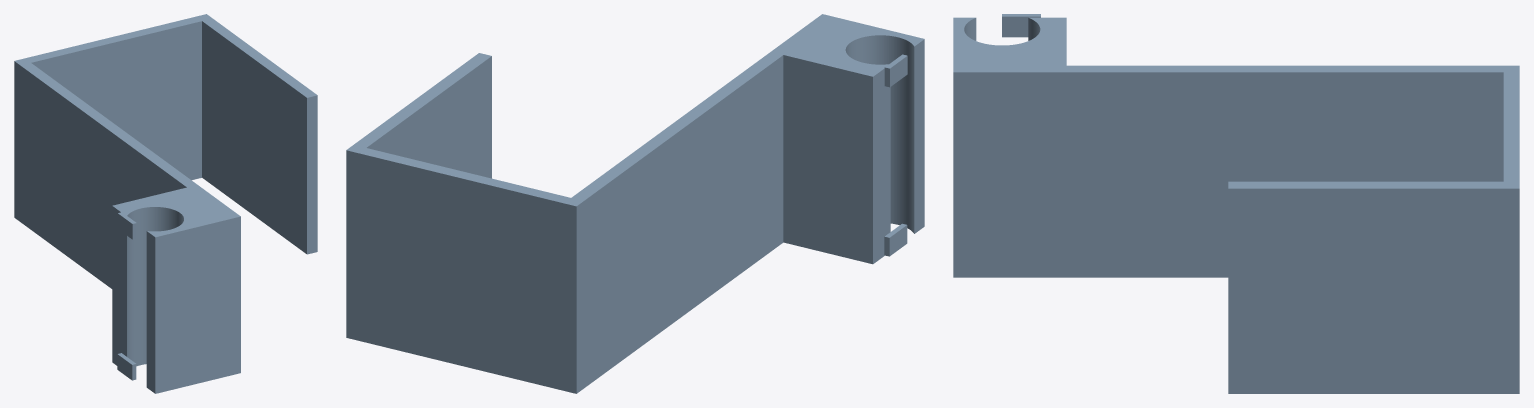
File: cpap-bracket.glb
3 views of the same model, side by side, from view 1: azimuth 30°, elevation 25°; view 2: azimuth 150°, elevation 25°; view 3: azimuth 270°, elevation 25° (orthographic). The views are drawn at different scales.
Parts seen in each view (by area): view 1: bracket.stl; view 2: bracket.stl; view 3: bracket.stl.
Boxes of the visible parts, bbox=[...] form: bracket.stl: bbox=[14, 14, 317, 393]; bracket.stl: bbox=[346, 14, 924, 393]; bracket.stl: bbox=[953, 14, 1519, 393].
Size of the model in its own units: 0.127 by 0.0703 by 0.175.
